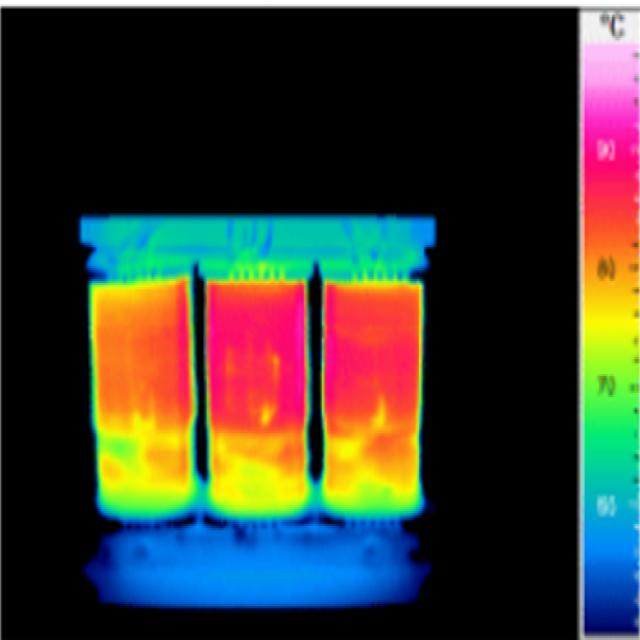Transformer: (79, 215, 436, 604)
